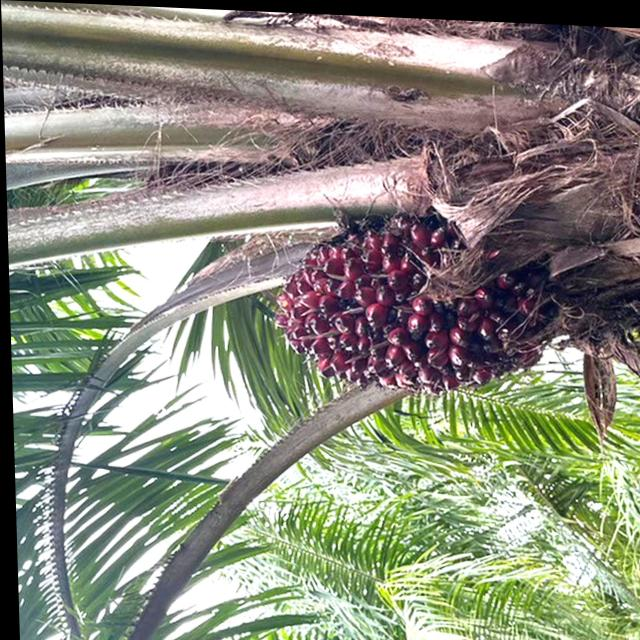ripe: (254, 218, 520, 401)
